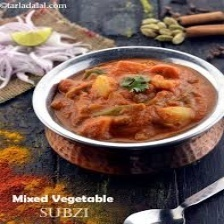sabzi: (51, 58, 217, 144)
